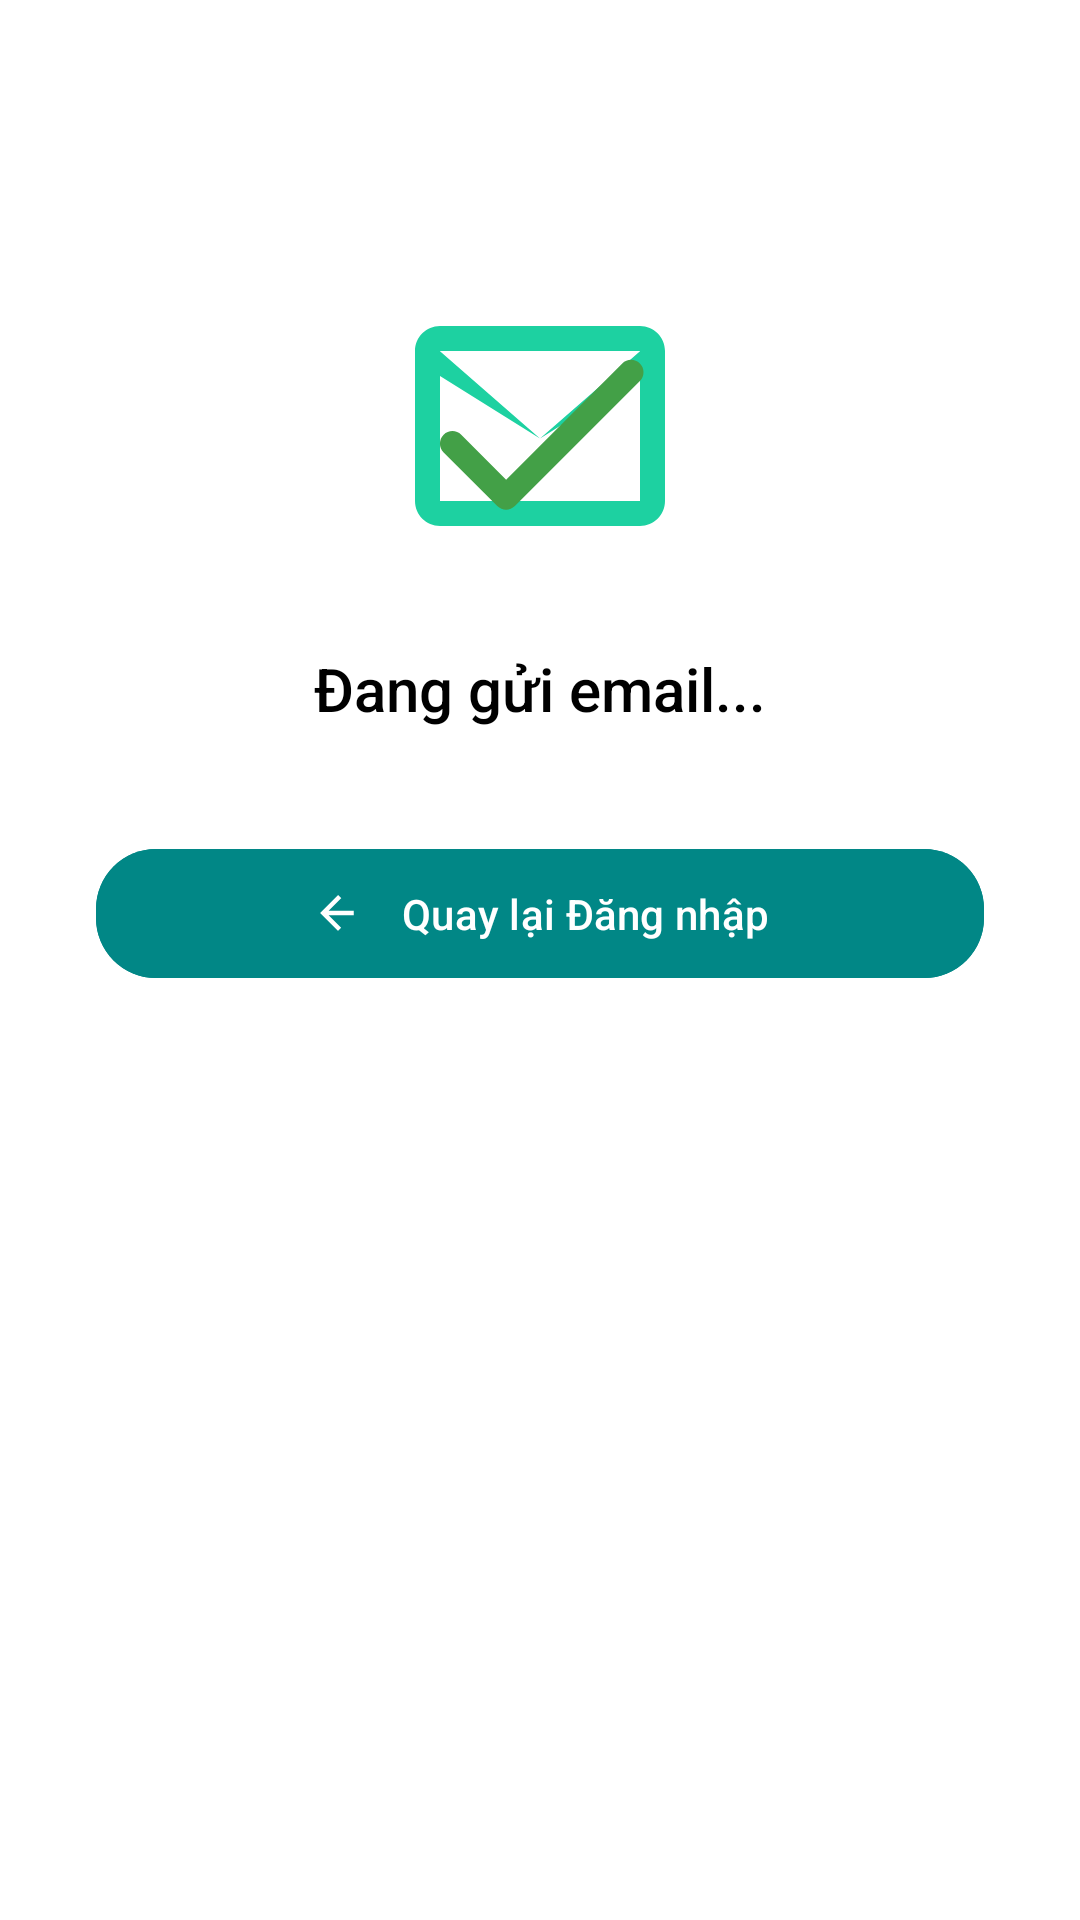

Screen size 1080px×1920px. Icon name, then its center in pixels as [x,y]:
email sent: [540,426]
